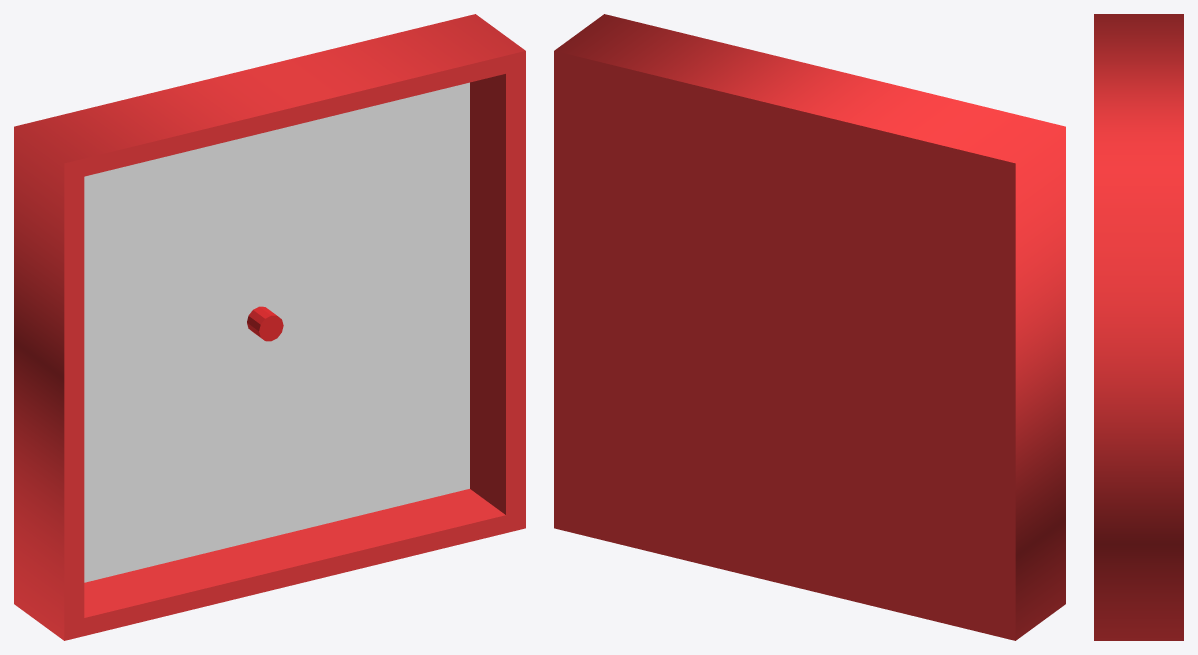
File: Itr_Obj_clock3_05.FBX
The picture shows the model from 3 angles, left to right: view 1: azimuth 30°, elevation 25°; view 2: azimuth 150°, elevation 25°; view 3: azimuth 270°, elevation 25°; orthographic projection. The views are drawn at different scales.
Visible parts, largest first — view 1: Itr_Obj_clock3_05; view 2: Itr_Obj_clock3_05; view 3: Itr_Obj_clock3_05.
Part boxes in pixels (x1,y1,x2,y2): Itr_Obj_clock3_05: [14, 14, 525, 640]; Itr_Obj_clock3_05: [554, 14, 1065, 640]; Itr_Obj_clock3_05: [1094, 14, 1183, 640].
Bounding box in the file's own units: 10.59 × 10.47 × 2.
